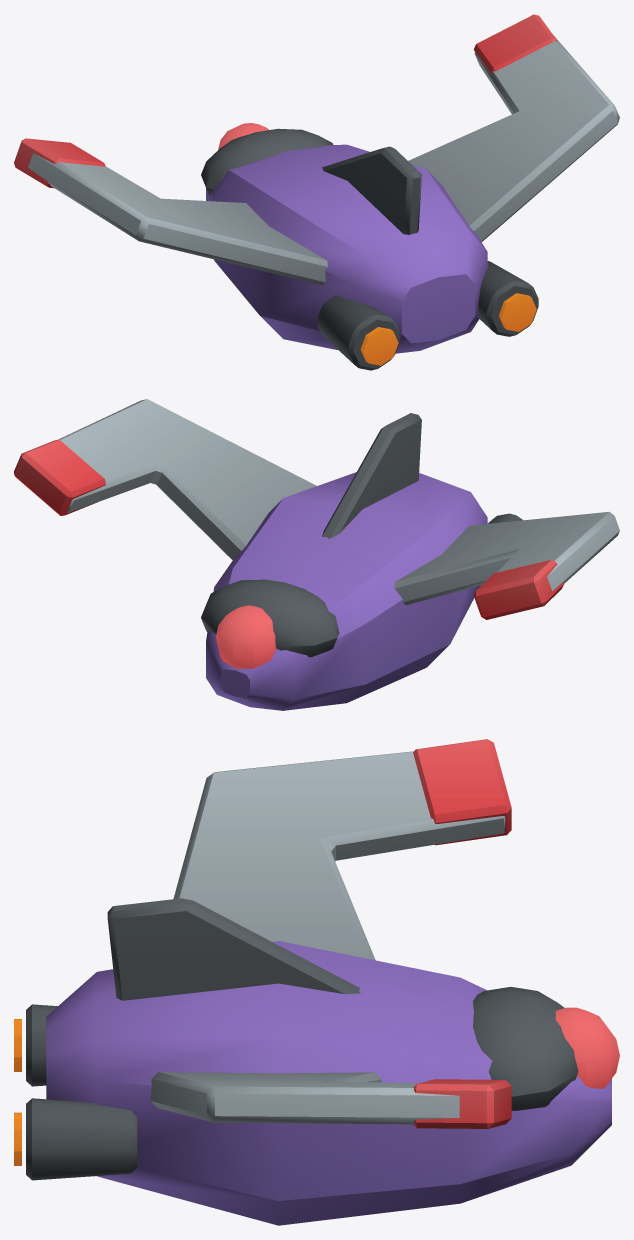
Rendered from cacador.glb.
3 views of the same model, one above another, from view 1: azimuth 30°, elevation 25°; view 2: azimuth 150°, elevation 25°; view 3: azimuth 270°, elevation 25° (orthographic). The views are drawn at different scales.
Visible parts, largest first — view 1: cacador_corpo; view 2: cacador_corpo; view 3: cacador_corpo.
Part boxes in pixels (x1,y1,x2,y2): cacador_corpo: (14,14,619,370); cacador_corpo: (14,399,619,710); cacador_corpo: (14,739,619,1225).
Size of the model in its own units: 4.24 by 1.58 by 3.
4 materials, 4 textured.
